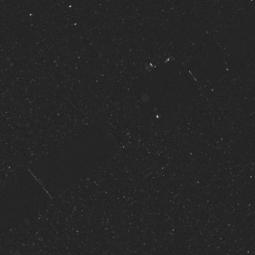smart_1: (133, 53, 203, 133)
